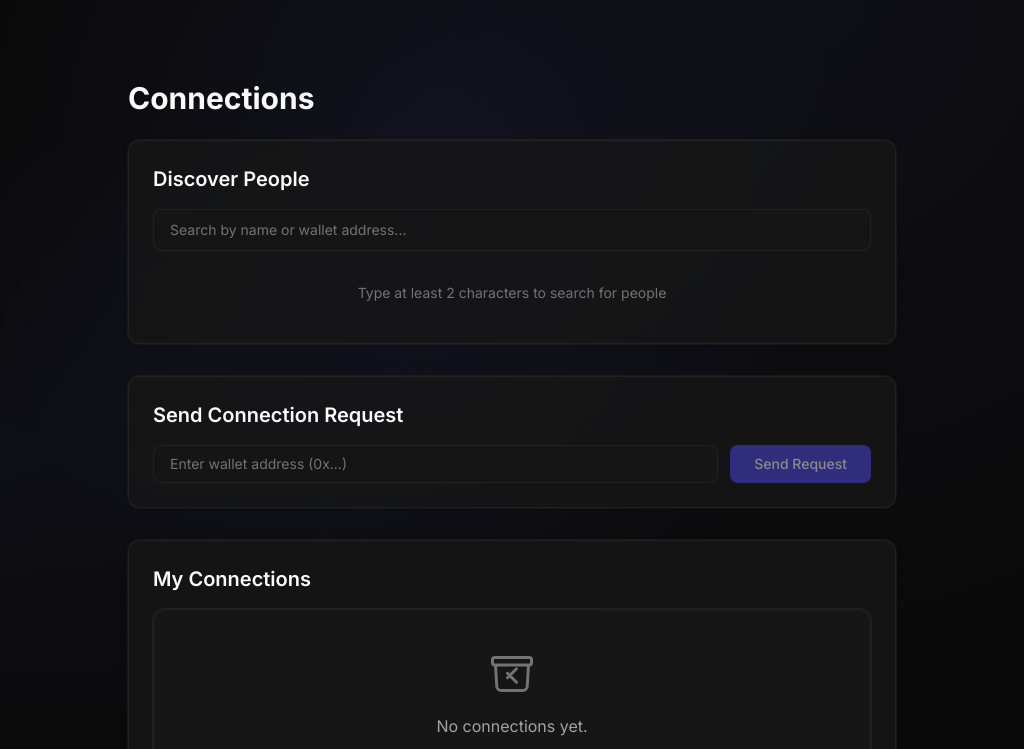
it: ConnectionsPage › sends a connection request successfully
The image size is (1024, 749).
Expected: the text "No connections yet." is shown, left=436, top=714, right=588, bottom=738
In the field with placeholder "Enter wallet address (0x...)": (436, 464) left=153, top=445, right=718, bottom=483, type "0xnewuser"
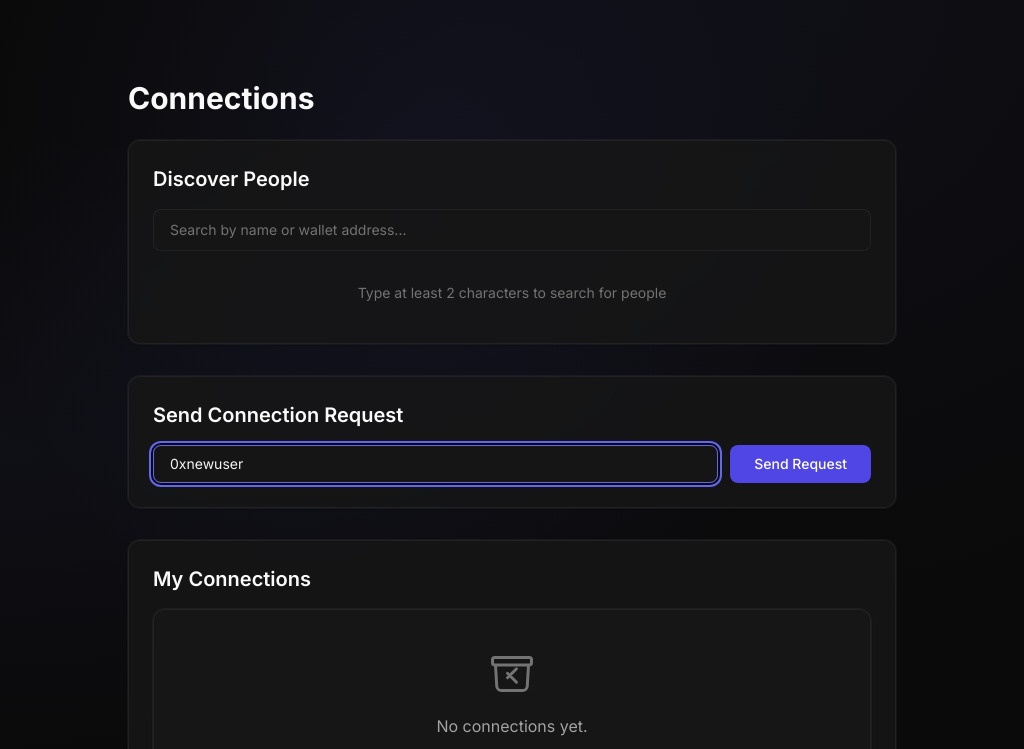
Click the button "Send Request": (801, 464) left=730, top=445, right=871, bottom=483
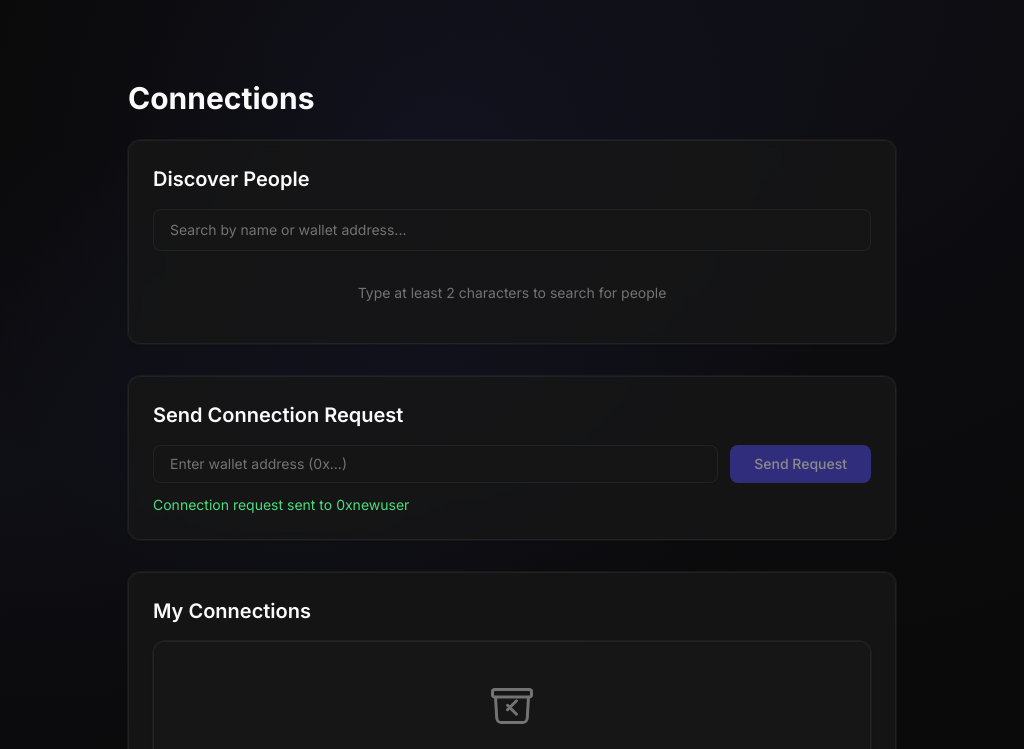
Result: the text "Connection request sent to 0xnewuser" is shown at left=153, top=496, right=409, bottom=513
